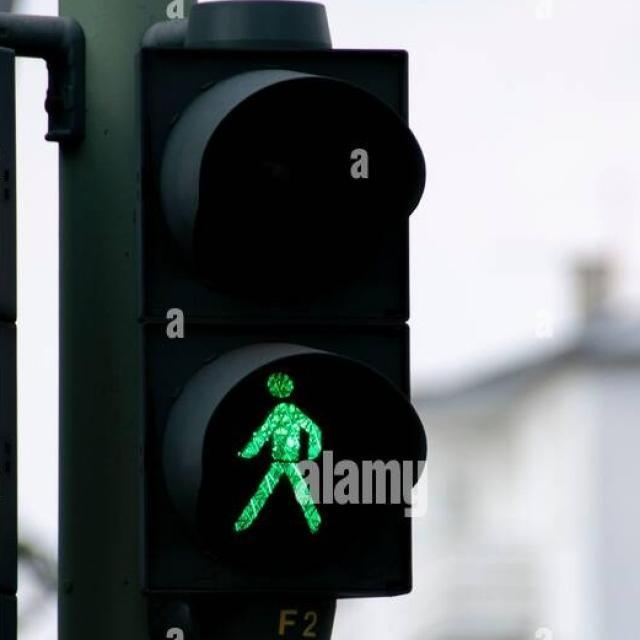geen-crossing: (236, 357, 338, 553)
